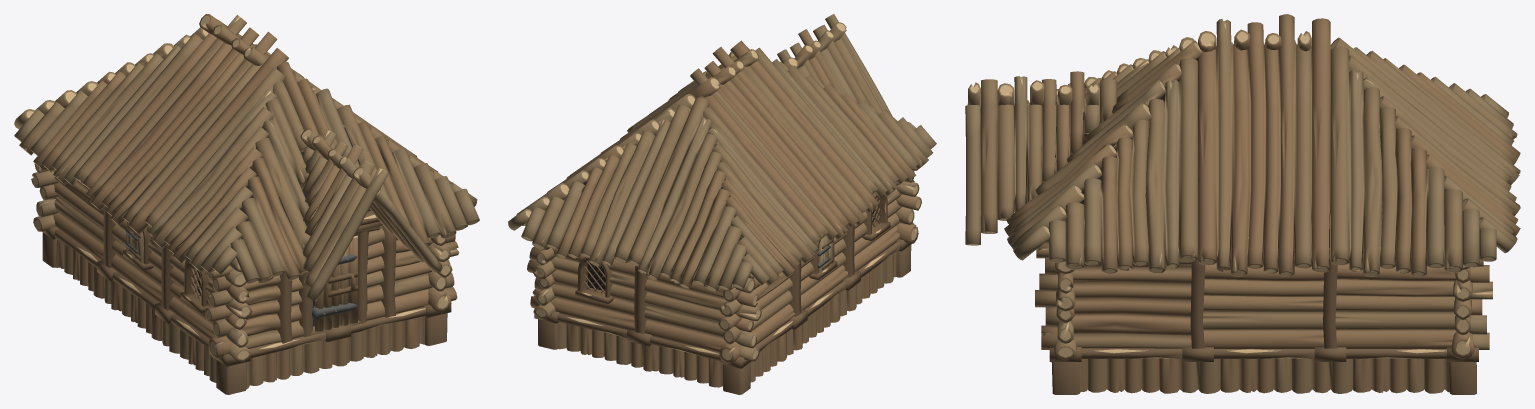
File: rpgpp_ag_building_closed_06.fbx
The picture shows the model from 3 angles, left to right: view 1: azimuth 30°, elevation 25°; view 2: azimuth 150°, elevation 25°; view 3: azimuth 270°, elevation 25°; orthographic projection. The views are drawn at different scales.
Parts seen in each view (by area): view 1: rpgpp_ag_building_closed_06; view 2: rpgpp_ag_building_closed_06; view 3: rpgpp_ag_building_closed_06.
Boxes of the visible parts, x1,y1,x2,y2 form: rpgpp_ag_building_closed_06: (14, 14, 479, 394); rpgpp_ag_building_closed_06: (508, 14, 936, 394); rpgpp_ag_building_closed_06: (965, 14, 1520, 394).
Bounding box in the file's own units: 8.64 × 7.79 × 12.58.
